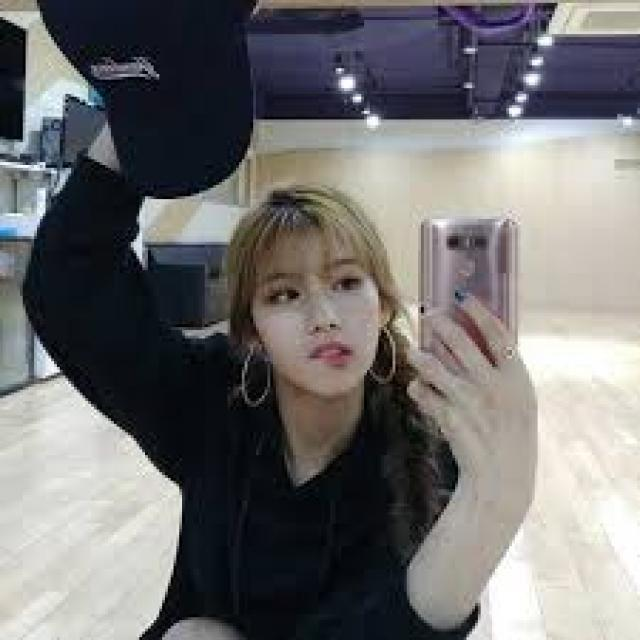Phone: (422, 213, 523, 369)
